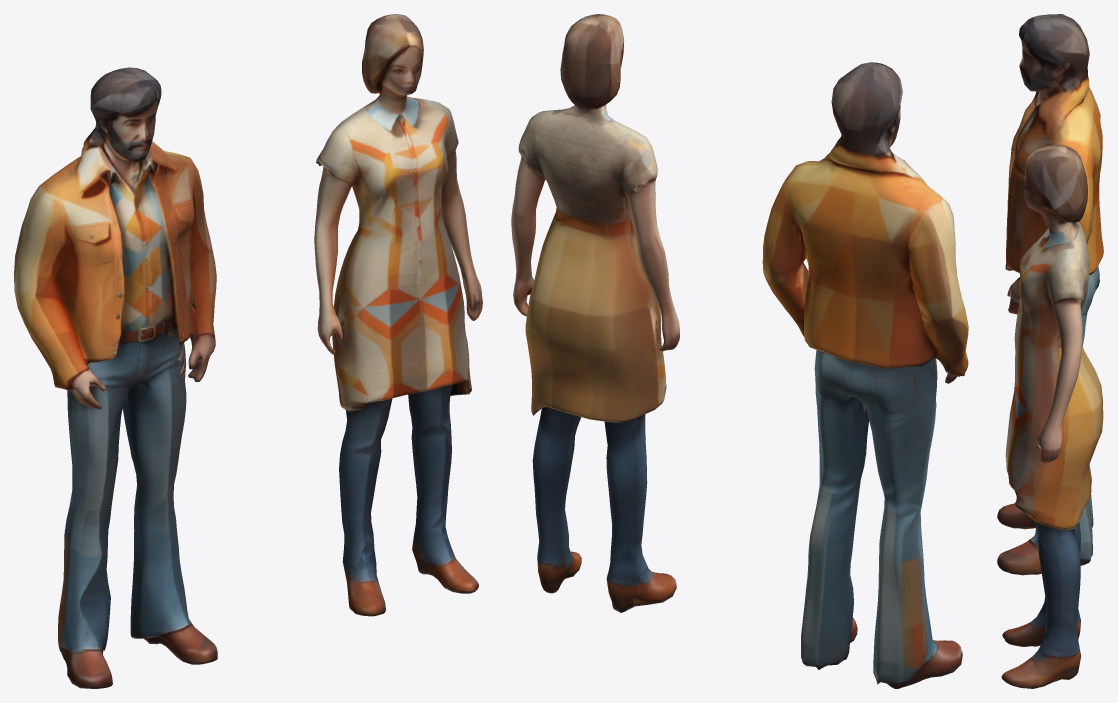
File: Meshy_AI_1970_s_Geometric_Oran_0221052039_texture.glb
The picture shows the model from 3 angles, left to right: view 1: azimuth 30°, elevation 25°; view 2: azimuth 150°, elevation 25°; view 3: azimuth 270°, elevation 25°; orthographic projection. The views are drawn at different scales.
Size of the model in its own units: 1.61 by 2 by 0.3653.
1 material, 1 textured.
